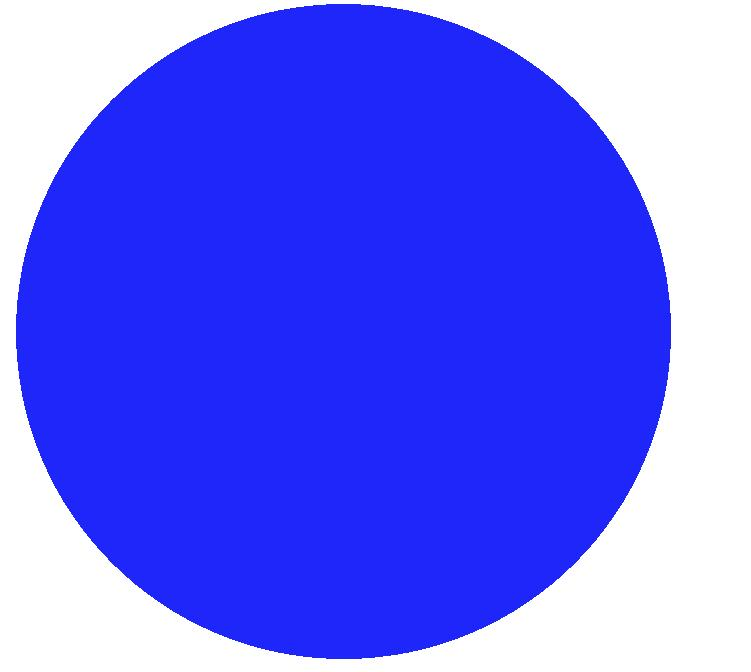blue_circle: (0, 0, 697, 672)
